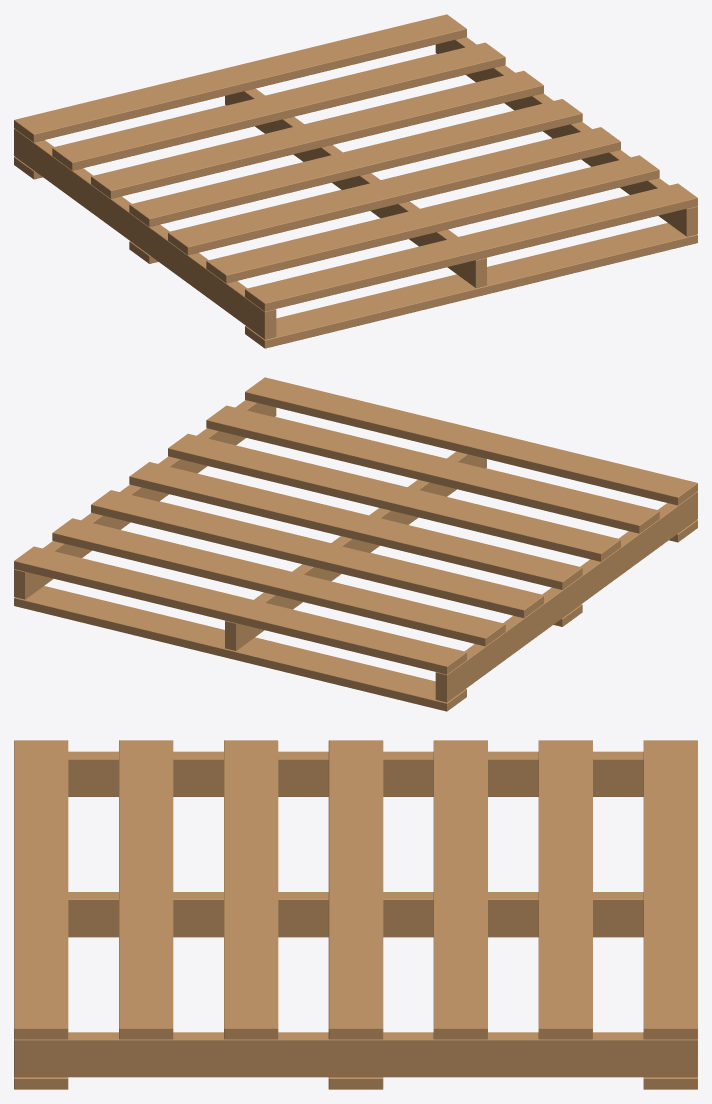
The model's file is pallet.obj.
3 renders of one model, top to bottom at view 1: azimuth 30°, elevation 25°; view 2: azimuth 150°, elevation 25°; view 3: azimuth 270°, elevation 25°, orthographic. The views are drawn at different scales.
Parts seen in each view (by area): view 1: Cube, Cube.001, Cube.003; view 2: Cube, Cube.001, Cube.003; view 3: Cube, Cube.001, Cube.003.
Part boxes in pixels (left/top/right/bottom): Cube: left=14, top=14, right=697, bottom=311; Cube.001: left=14, top=37, right=697, bottom=339; Cube.003: left=14, top=54, right=697, bottom=348; Cube: left=14, top=377, right=697, bottom=674; Cube.001: left=14, top=400, right=697, bottom=702; Cube.003: left=14, top=417, right=697, bottom=711; Cube: left=14, top=740, right=697, bottom=1039; Cube.001: left=14, top=751, right=697, bottom=1077; Cube.003: left=14, top=1077, right=697, bottom=1089.
Bounding box in the file's own units: 120 × 11.99 × 120.
